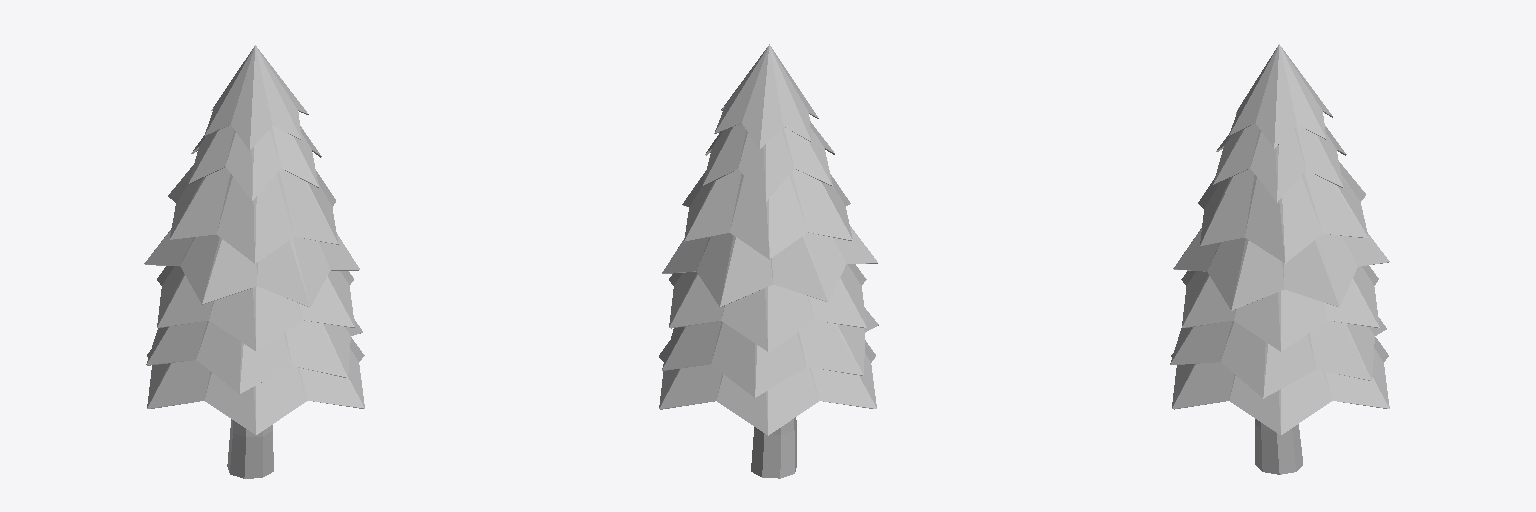
The model's file is dark_pine_tree3.obj.
3 views of the same model, side by side, from view 1: azimuth 30°, elevation 25°; view 2: azimuth 150°, elevation 25°; view 3: azimuth 270°, elevation 25° (orthographic).
Visible parts, largest first — view 1: Tree4_1.001_Cylinder.030; view 2: Tree4_1.001_Cylinder.030; view 3: Tree4_1.001_Cylinder.030.
Boxes of the visible parts, box(x1,y1,x2,y2) form: Tree4_1.001_Cylinder.030: box(144, 45, 364, 478); Tree4_1.001_Cylinder.030: box(659, 44, 878, 478); Tree4_1.001_Cylinder.030: box(1170, 44, 1389, 474).
Bounding box in the file's own units: 5.37 × 9.96 × 4.69.